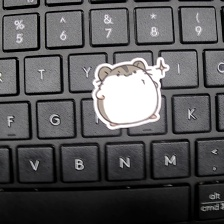mouse: (90, 55, 173, 130)
